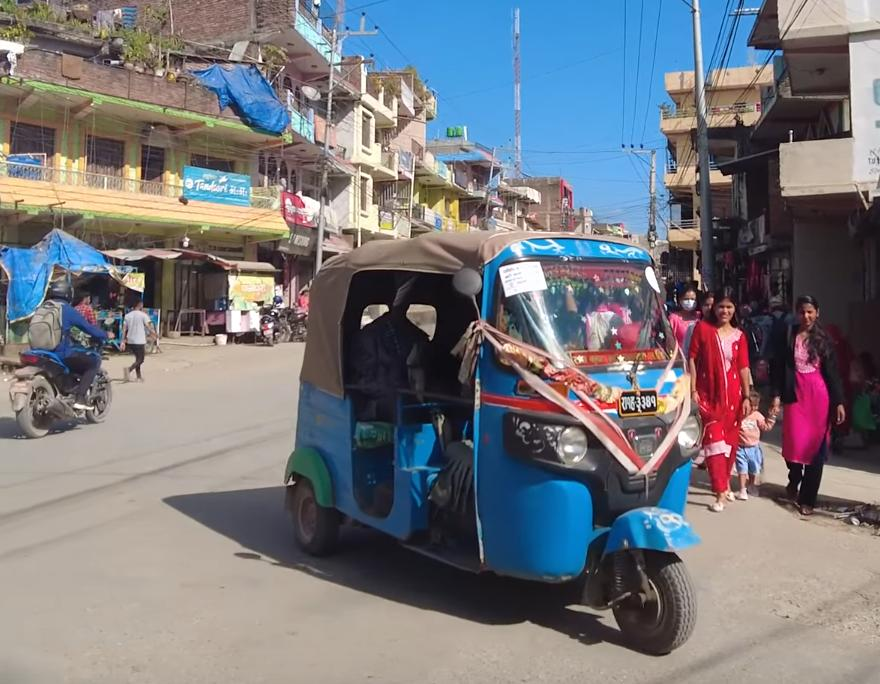auto_rickshaw: (277, 218, 702, 657)
bike: (8, 327, 116, 441)
